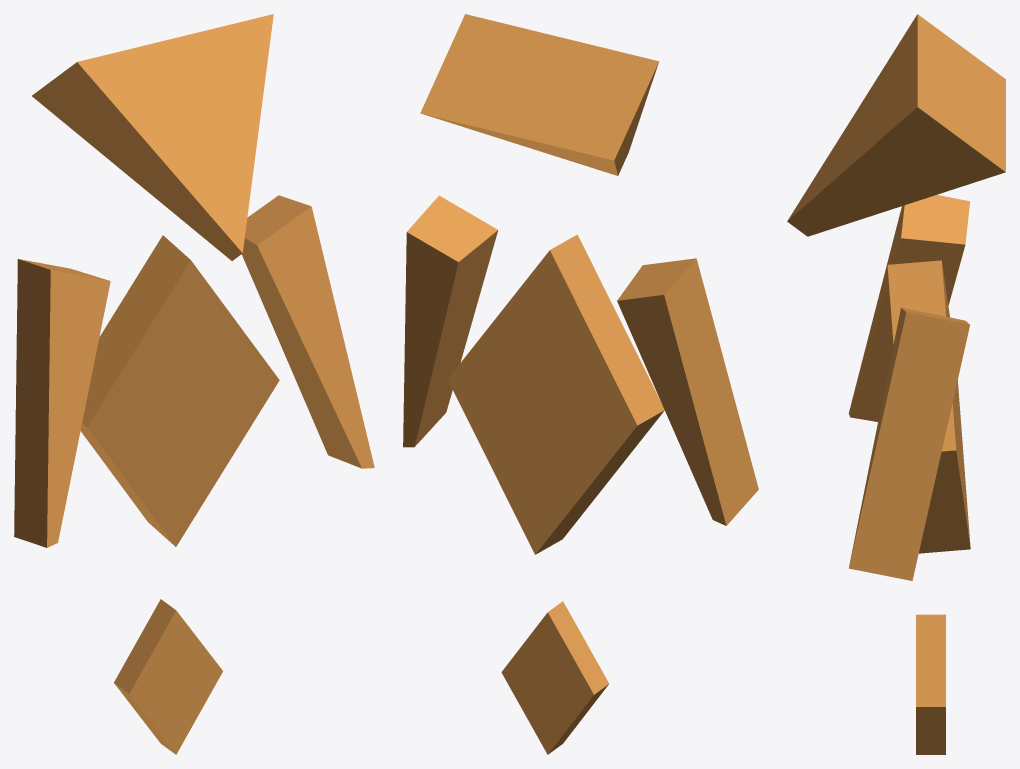
The model's file is triangle_man.glb.
The picture shows the model from 3 angles, left to right: view 1: azimuth 30°, elevation 25°; view 2: azimuth 150°, elevation 25°; view 3: azimuth 270°, elevation 25°; orthographic projection. The views are drawn at different scales.
Parts seen in each view (by area): view 1: Body, Arms; view 2: Body, Arms; view 3: Body, Arms.
Boxes of the visible parts, bbox=[...] form: Body: bbox=[32, 14, 279, 754]; Arms: bbox=[14, 195, 374, 547]; Body: bbox=[420, 14, 664, 754]; Arms: bbox=[403, 195, 758, 525]; Body: bbox=[787, 14, 1005, 754]; Arms: bbox=[848, 195, 969, 580].
Bounding box in the file's own units: 0.7808 × 1.63 × 0.4658.
